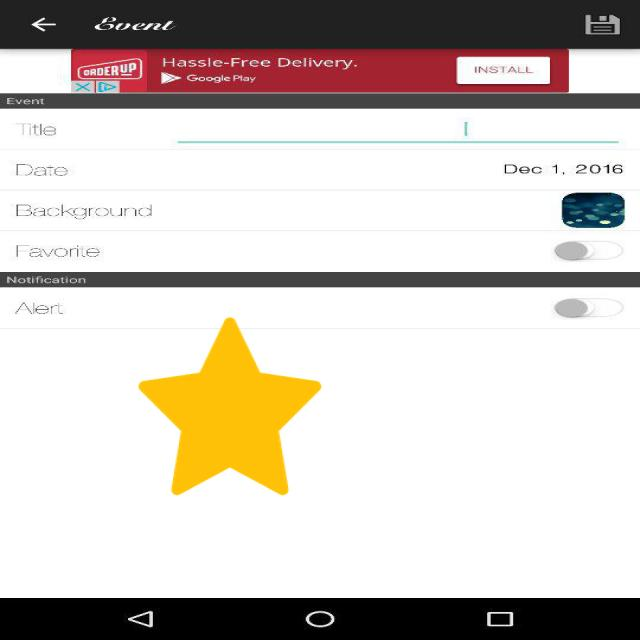forced continuity: (139, 318, 321, 496)
